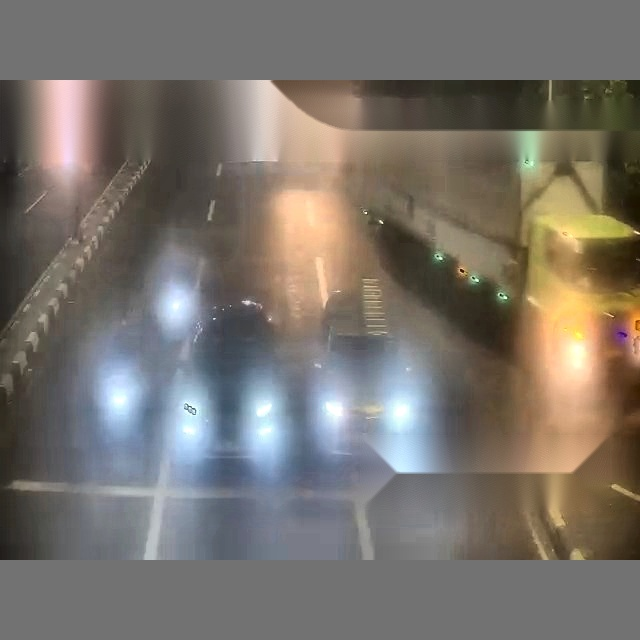Truk: (515, 129, 606, 213)
